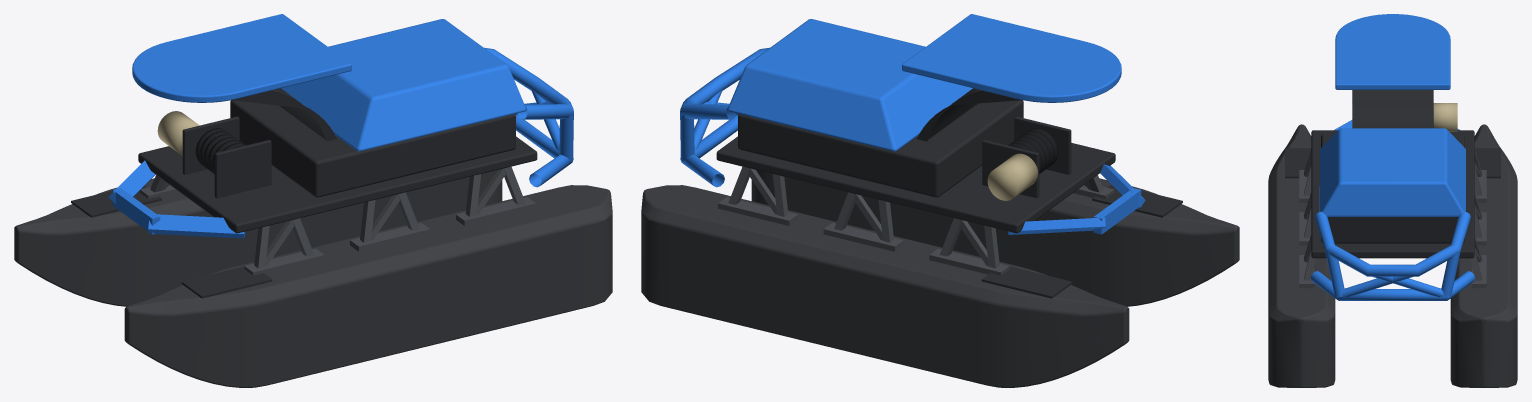
File: aquascan-boat.glb
3 views of the same model, side by side, from view 1: azimuth 30°, elevation 25°; view 2: azimuth 150°, elevation 25°; view 3: azimuth 270°, elevation 25° (orthographic). The views are drawn at different scales.
Parts seen in each view (by area): view 1: pontoon_starboard, pontoon_port, cabin, canopy, housing, deck, winch_cheek_-0.055, cage_top, stern_frame_2, pontoon_starboard_stern_plate, arch, cage_low (+9 smaller); view 2: pontoon_port, pontoon_starboard, cabin, canopy, housing, deck, cage_top, winch_motor, pontoon_port_stern_plate, arch, cage_low, winch_cheek_-0.055 (+9 smaller); view 3: cabin, pontoon_port, pontoon_starboard, canopy, deck, housing, arch, cage_top, cage_low, winch_motor, pontoon_port_stern_plate, pontoon_starboard_stern_plate (+10 smaller).
Part boxes in pixels (bbox=[...]): pontoon_starboard: bbox=[124, 185, 612, 387]; pontoon_port: bbox=[14, 170, 502, 306]; cabin: bbox=[281, 19, 526, 151]; canopy: bbox=[132, 14, 351, 102]; housing: bbox=[230, 100, 515, 197]; deck: bbox=[138, 136, 537, 233]; winch_cheek_-0.055: bbox=[214, 140, 271, 198]; cage_top: bbox=[484, 47, 573, 119]; stern_frame_2: bbox=[148, 214, 245, 238]; pontoon_starboard_stern_plate: bbox=[181, 266, 272, 298]; arch: bbox=[231, 88, 336, 141]; cage_low: bbox=[515, 115, 573, 187]; pontoon_port: bbox=[641, 185, 1129, 387]; pontoon_starboard: bbox=[751, 170, 1239, 306]; cabin: bbox=[727, 19, 972, 151]; canopy: bbox=[902, 14, 1121, 102]; housing: bbox=[738, 100, 1023, 197]; deck: bbox=[716, 136, 1115, 233]; cage_top: bbox=[680, 47, 769, 119]; winch_motor: bbox=[987, 153, 1037, 200]; pontoon_port_stern_plate: bbox=[981, 266, 1072, 298]; arch: bbox=[917, 88, 1022, 141]; cage_low: bbox=[680, 115, 738, 187]; winch_cheek_-0.055: bbox=[1014, 116, 1071, 174]; cabin: bbox=[1319, 128, 1466, 216]; pontoon_port: bbox=[1450, 124, 1517, 387]; pontoon_starboard: bbox=[1268, 124, 1335, 387]; canopy: bbox=[1335, 14, 1450, 89]; deck: bbox=[1311, 130, 1474, 258]; housing: bbox=[1321, 134, 1464, 243]; arch: bbox=[1352, 90, 1433, 128]; cage_top: bbox=[1315, 211, 1470, 276]; cage_low: bbox=[1311, 271, 1474, 300]; winch_motor: bbox=[1433, 103, 1457, 131]; pontoon_port_stern_plate: bbox=[1474, 148, 1500, 178]; pontoon_starboard_stern_plate: bbox=[1285, 148, 1311, 178].
Size of the model in its own units: 0.9622 by 0.497 by 0.52.
